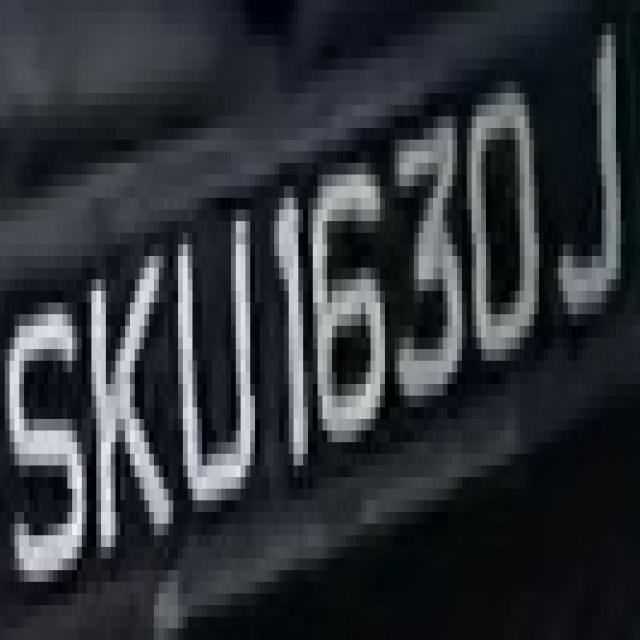0: (457, 81, 539, 372)
1: (264, 140, 318, 524)
3: (380, 104, 462, 430)
6: (284, 128, 390, 465)
J: (544, 0, 640, 361)
K: (77, 221, 178, 605)
S: (5, 280, 86, 594)
U: (163, 198, 260, 512)
